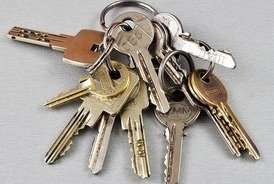key: (8, 12, 263, 184)
